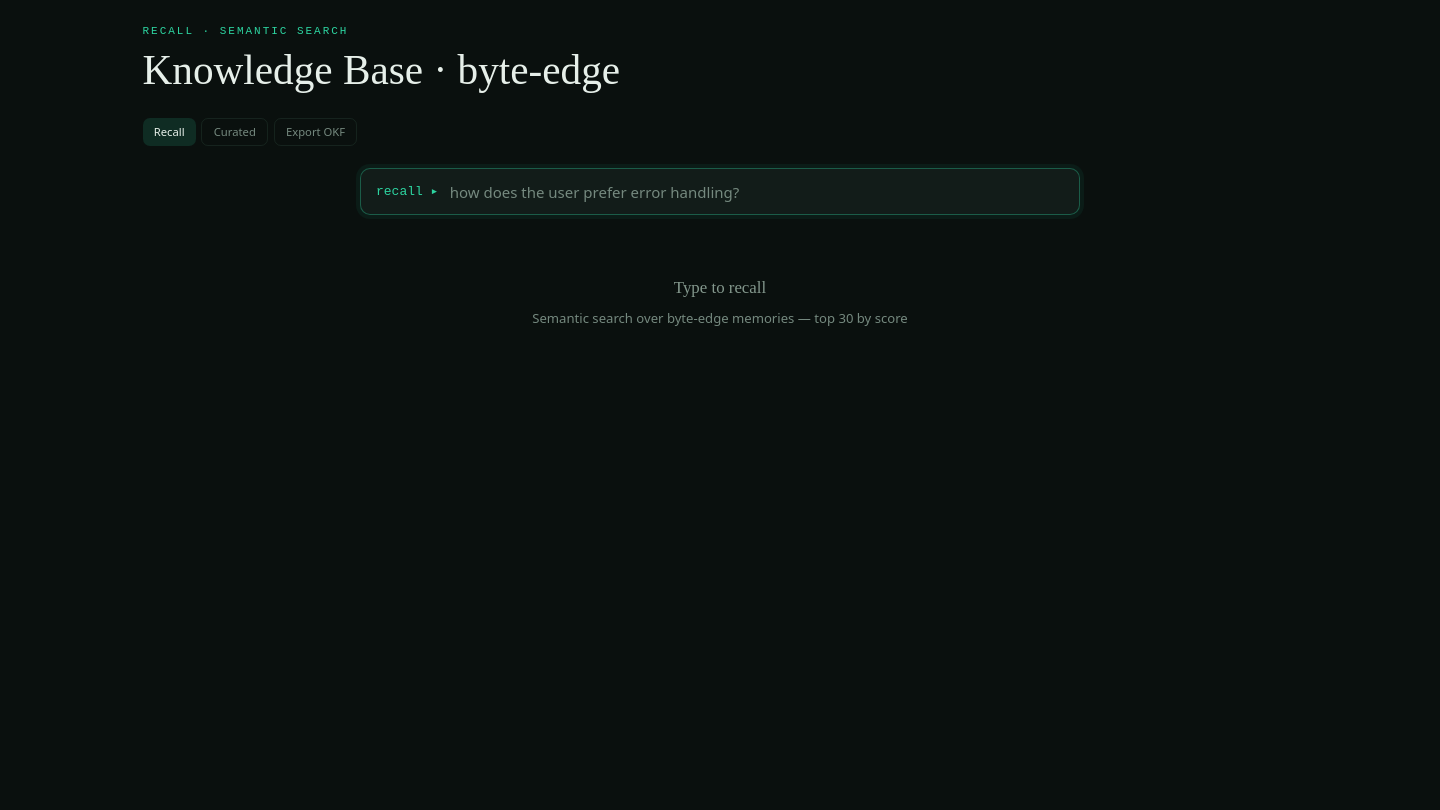
KB recall workbench › clicking a card opens the memory in the inspector
The width and height of the screenshot is (1440, 810).
Step 1. Type "error handling" into the field named "recall query" → (757, 192), box [450, 181, 1064, 203]
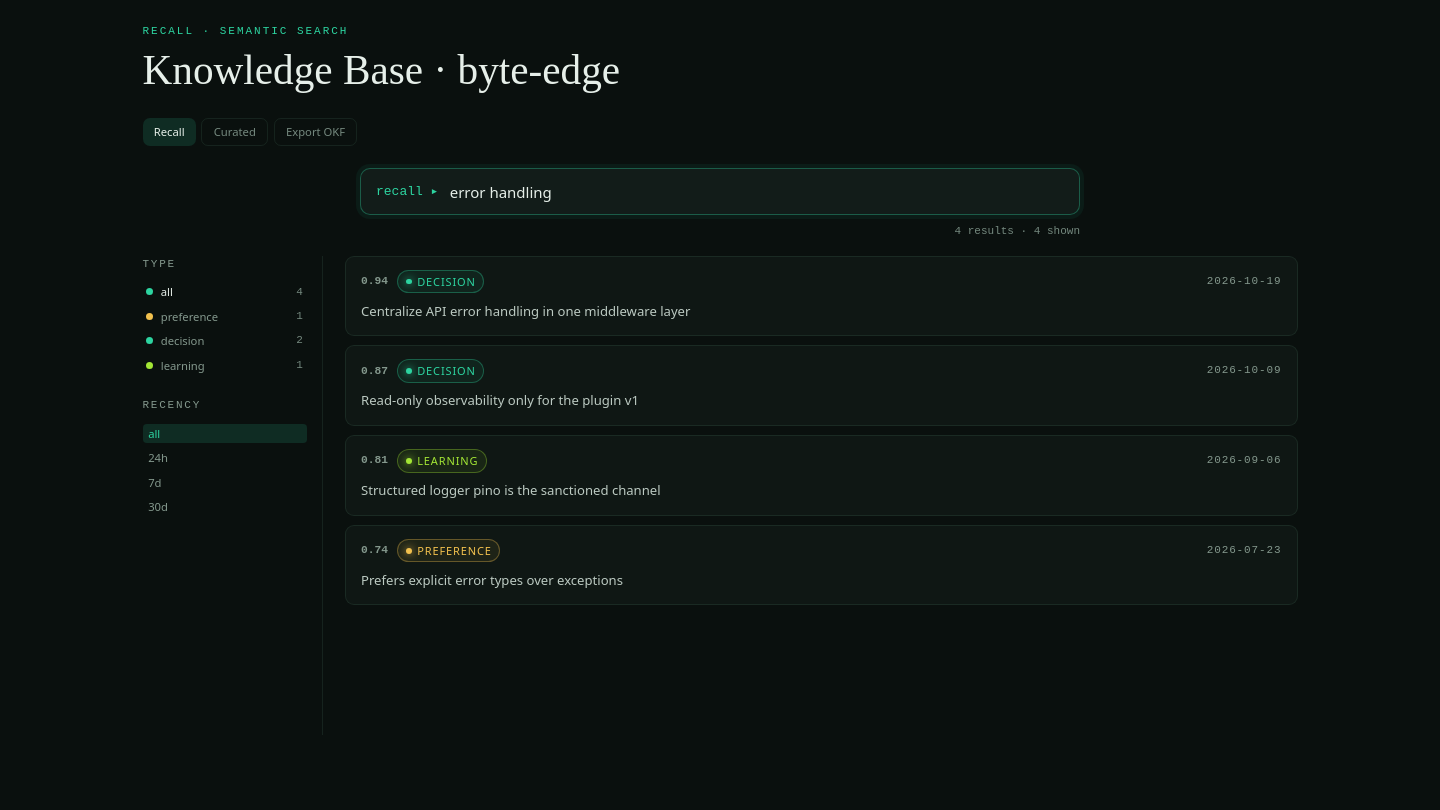
Expected: the text "Centralize API error handling in one middleware layer" is shown
Step 2. Click the text "Centralize API error handling in one middleware layer" → (526, 310), box [361, 302, 690, 320]
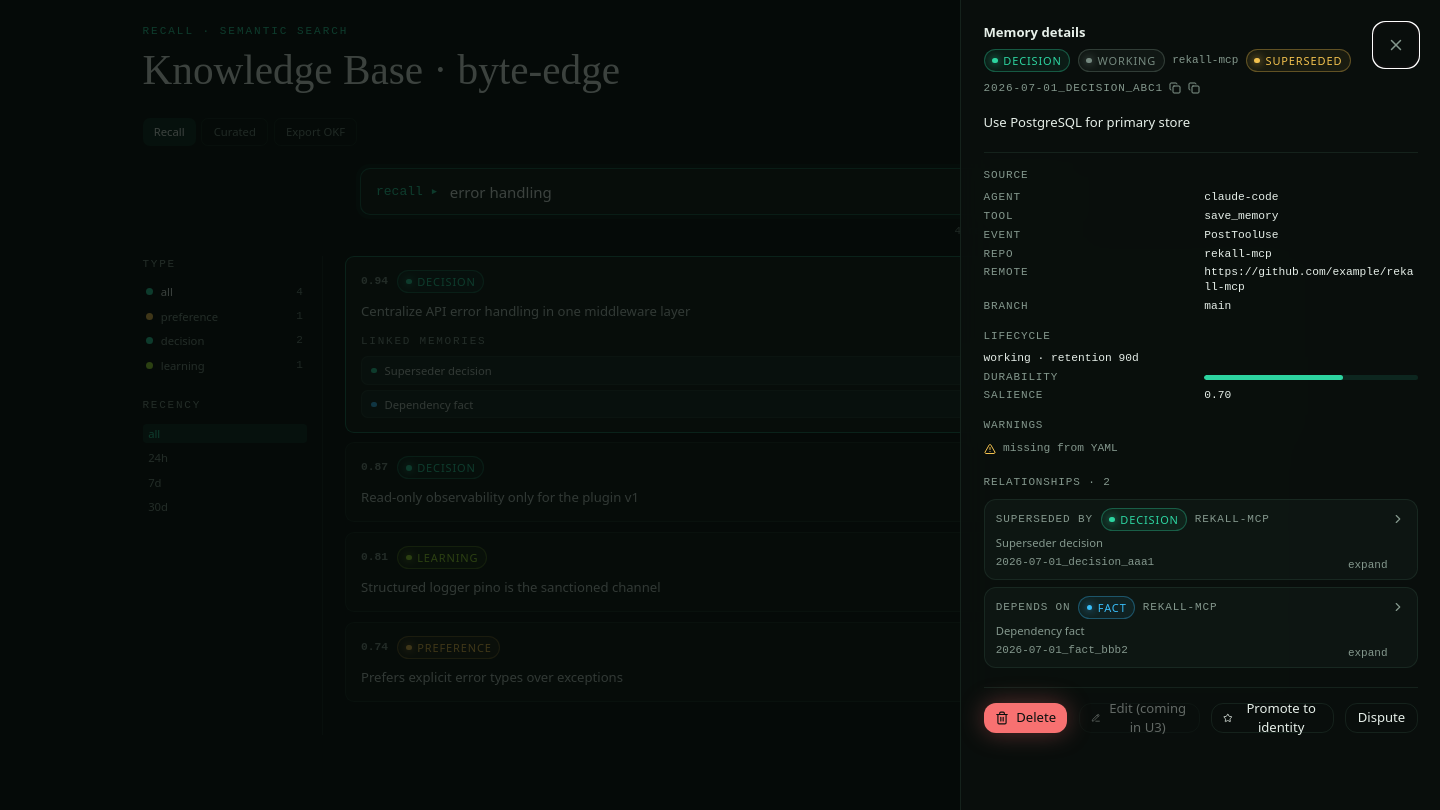
Expected: the text "Memory details" is shown, [984, 22, 1086, 40]
